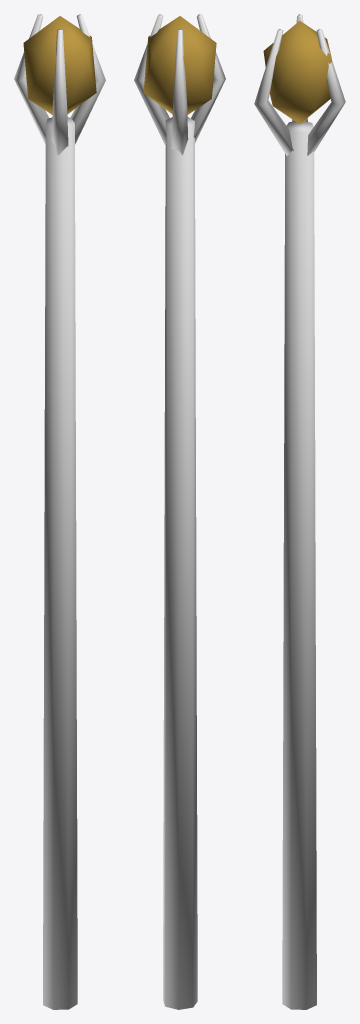
File: pirate_staff.glb
3 renders of one model, left to right at view 1: azimuth 30°, elevation 25°; view 2: azimuth 150°, elevation 25°; view 3: azimuth 330°, elevation 25°, orthographic.
Parts seen in each view (by area): view 1: pirate_staff_v0; view 2: pirate_staff_v0; view 3: pirate_staff_v0.
Part boxes in pixels (x1,y1,x2,y2): pirate_staff_v0: [14, 14, 105, 1009]; pirate_staff_v0: [134, 14, 225, 1009]; pirate_staff_v0: [254, 14, 345, 1009].
Bounding box in the file's own units: 0.1164 × 1.46 × 0.1182.
